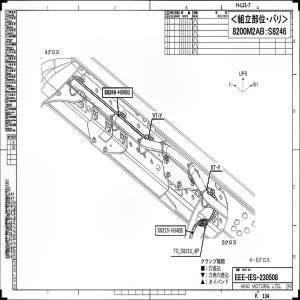PartNumber: (104, 88, 130, 96), (158, 227, 184, 234)
